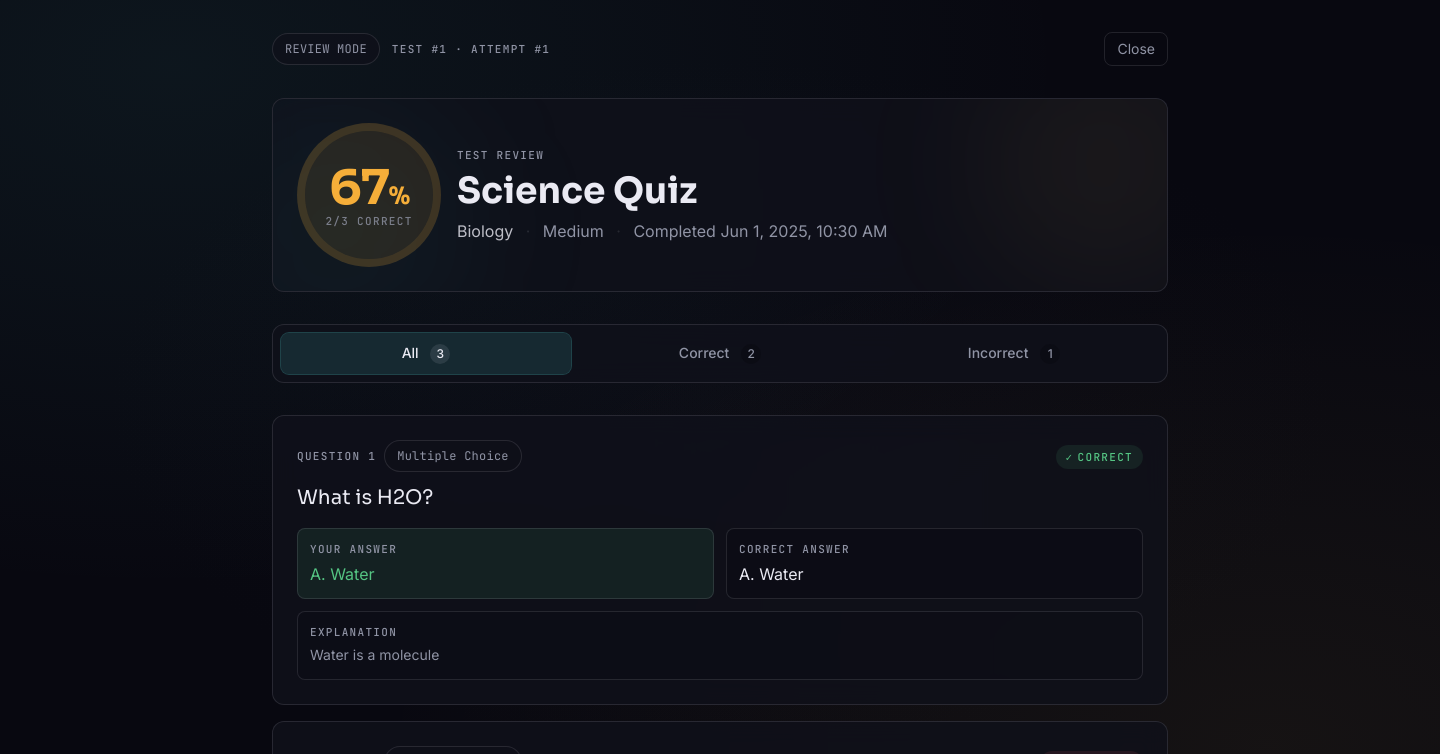
Test case: TestReview › filters to incorrect answers only
Expected: the heading "Science Quiz" is shown, x1=457 y1=168 x2=697 y2=213
Click the tab "Incorrect 1". click: (1014, 354)
box: x1=869 y1=333 x2=1159 y2=374
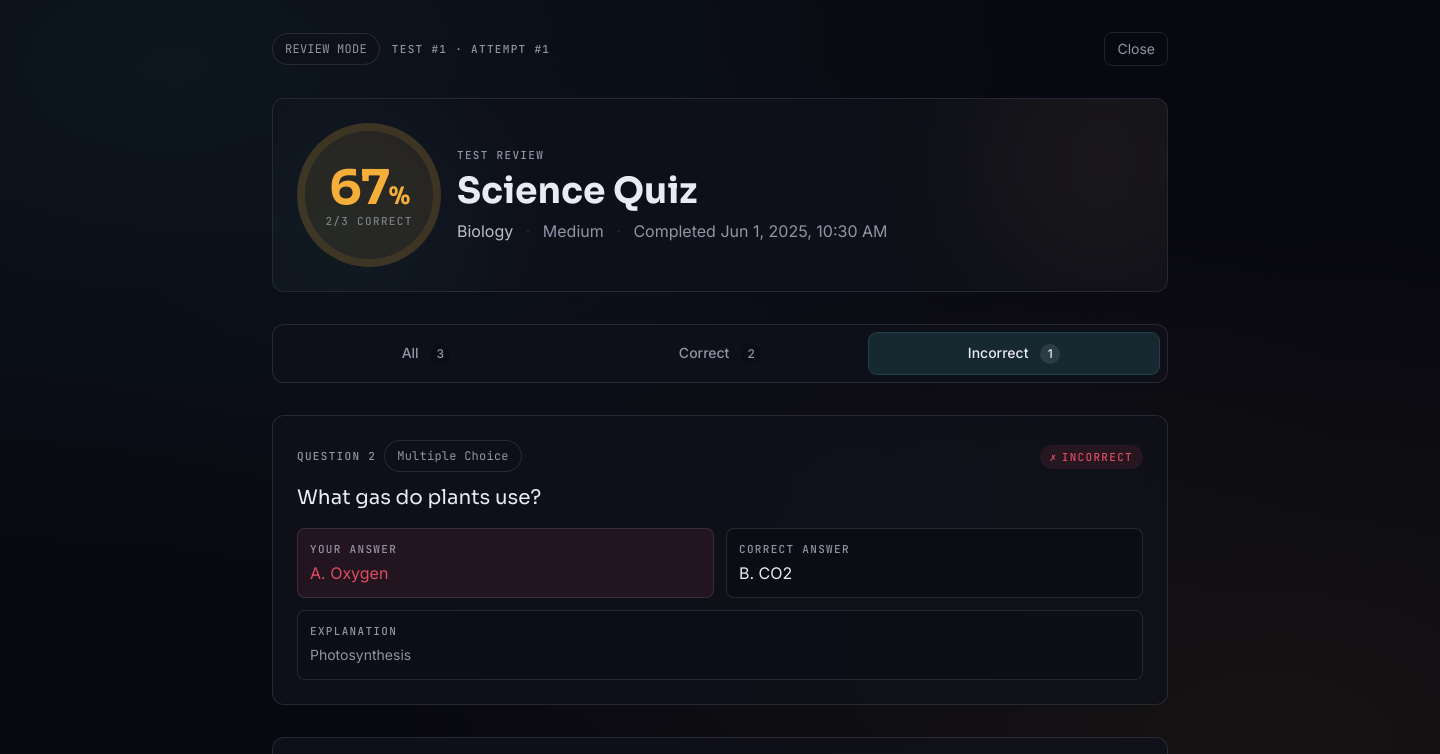
Expected: the text "What gas do plants use?" is shown, x1=297 y1=485 x2=541 y2=510
Now the text "What is H2O?" is gone
